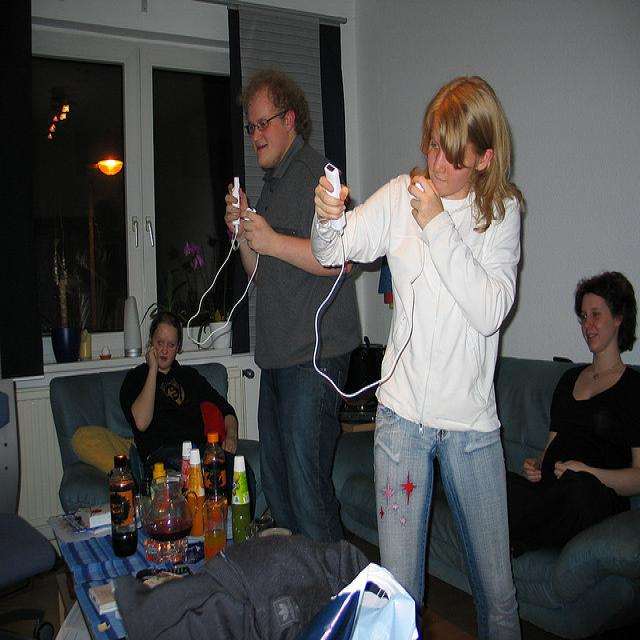chair: (2, 377, 61, 598)
dining table: (56, 488, 270, 632)
